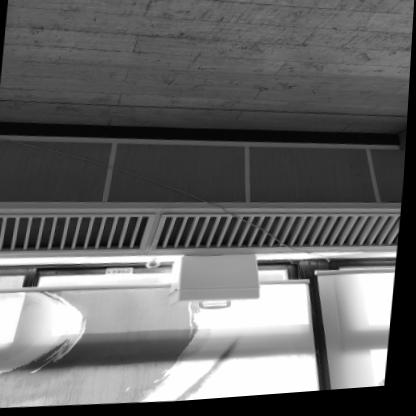DDL: (169, 253, 268, 316)
